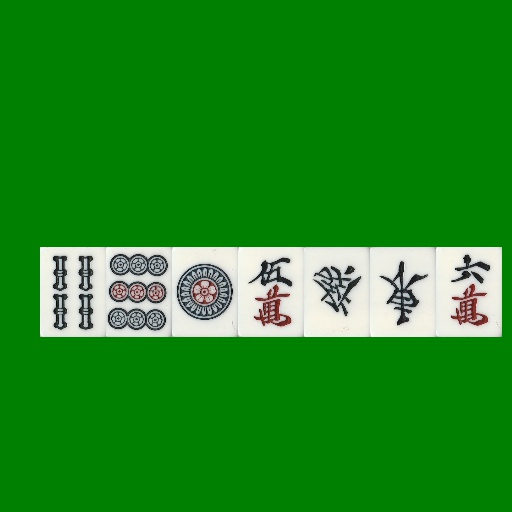1p: (172, 247, 238, 337)
4s: (40, 247, 106, 337)
5m: (238, 247, 304, 337)
6m: (436, 247, 502, 337)
9p: (106, 247, 172, 337)
east: (370, 247, 436, 337)
hatsu: (304, 247, 370, 337)
